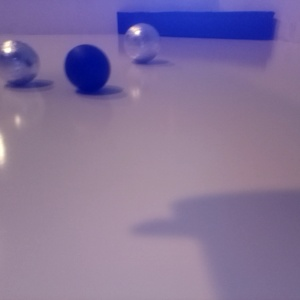alive_ball: (149, 56, 253, 161), (91, 51, 144, 105)
